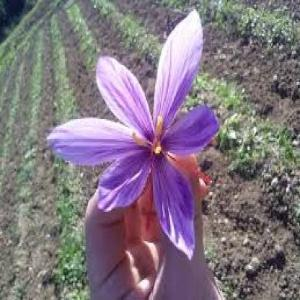Saffron: (49, 12, 216, 261)
